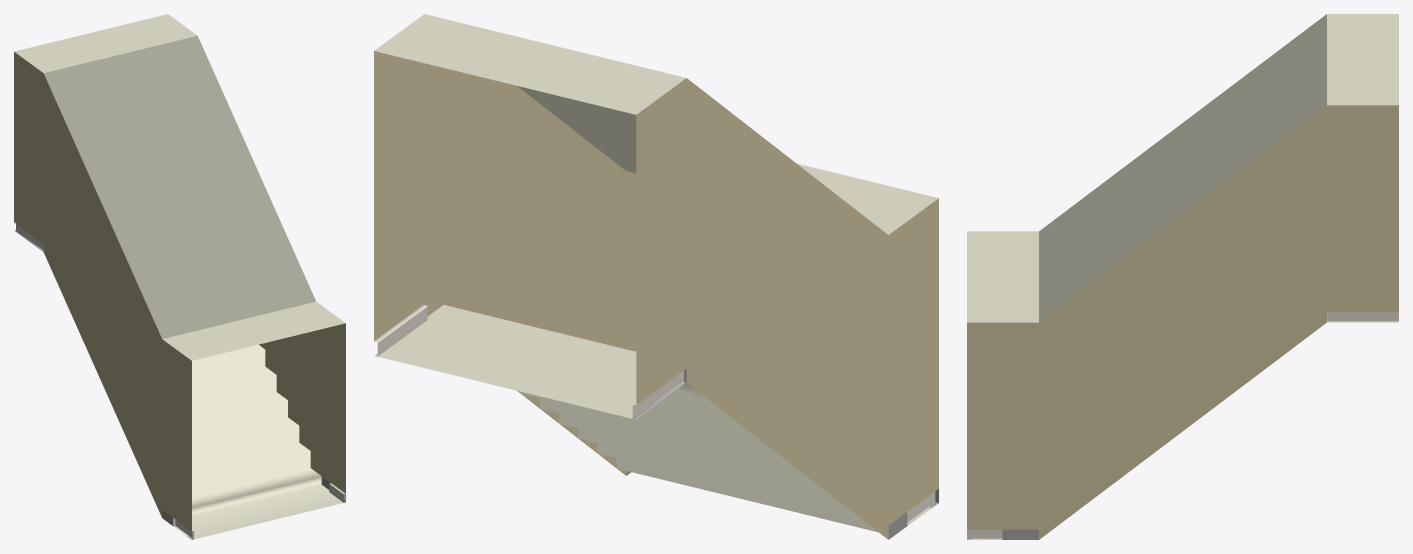
The model's file is StairModel (Untextured).fbx.
3 views of the same model, side by side, from view 1: azimuth 30°, elevation 25°; view 2: azimuth 150°, elevation 25°; view 3: azimuth 270°, elevation 25° (orthographic). The views are drawn at different scales.
Parts seen in each view (by area): view 1: floor9; view 2: floor9; view 3: floor9.
Boxes of the visible parts, x1,y1,x2,y2 form: floor9: (14, 14, 345, 539); floor9: (374, 14, 938, 539); floor9: (967, 14, 1398, 539).
Size of the model in its own units: 337 by 750 by 675.
